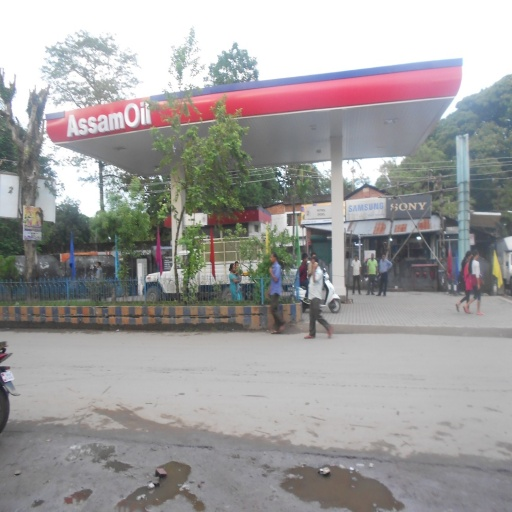roof: (47, 61, 466, 180)
